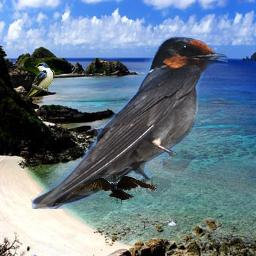Crow: (71, 175, 157, 205)
Swallow: (31, 36, 228, 209), (24, 62, 55, 100)
